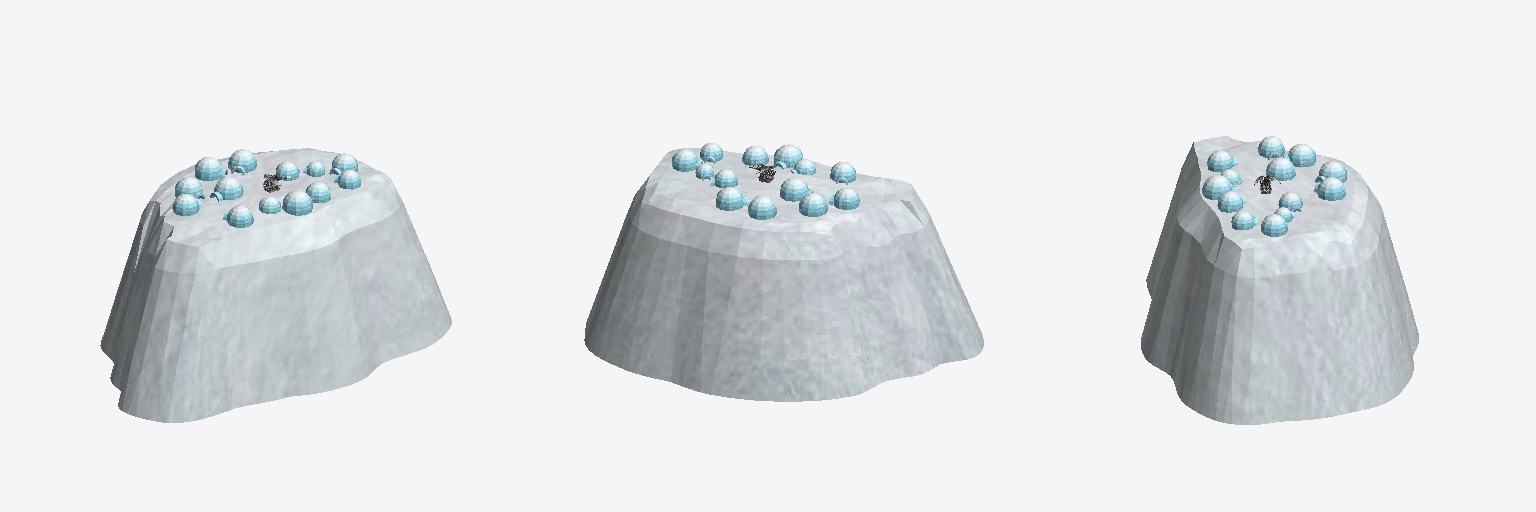
The picture shows the model from 3 angles: view 1: azimuth 30°, elevation 25°; view 2: azimuth 150°, elevation 25°; view 3: azimuth 270°, elevation 25°; orthographic projection.
Parts seen in each view (by area): view 1: lands6:Group5, igloo; view 2: lands6:Group5, igloo; view 3: lands6:Group5, igloo.
Part boxes in pixels (x1,y1,x2,y2): lands6:Group5: (100, 148, 451, 422); igloo: (172, 149, 360, 227); lands6:Group5: (584, 148, 983, 401); igloo: (672, 143, 859, 219); lands6:Group5: (1141, 136, 1418, 424); igloo: (1202, 136, 1346, 236).
Size of the model in its own units: 9.48 by 4.46 by 6.64.
Materials: 5 (5 with a texture image).